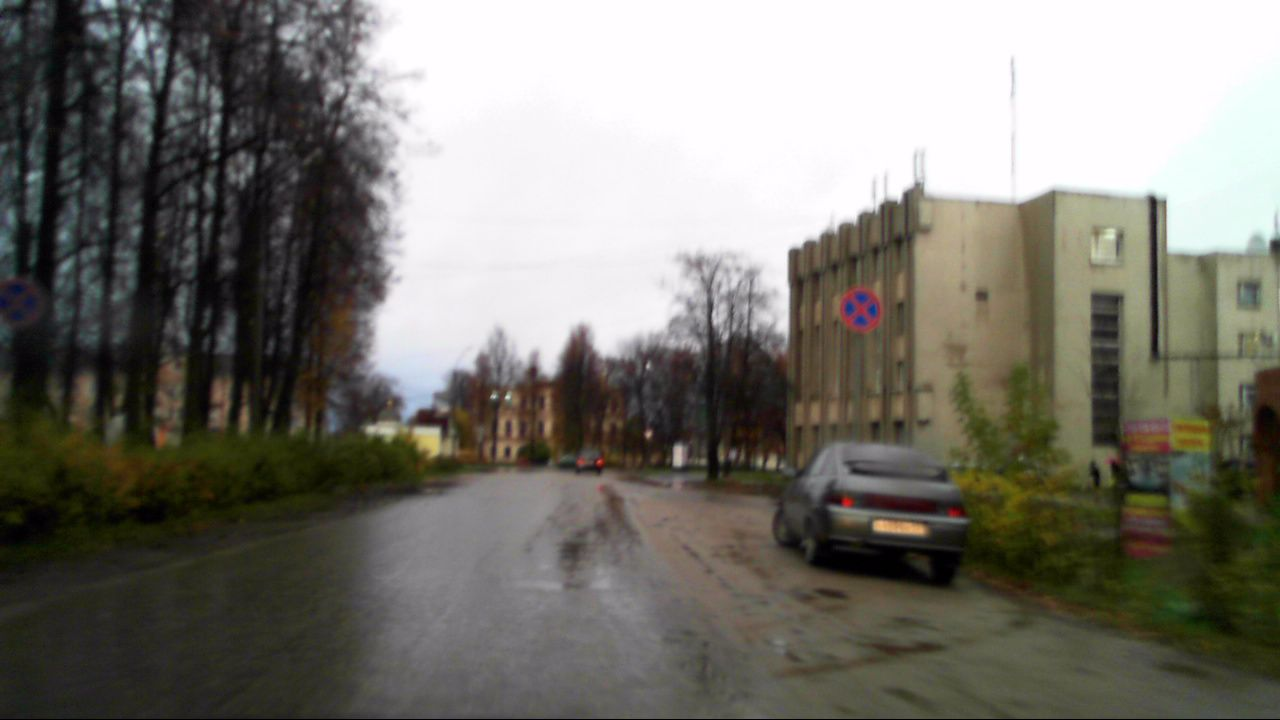No Parking: (839, 287, 882, 334)
